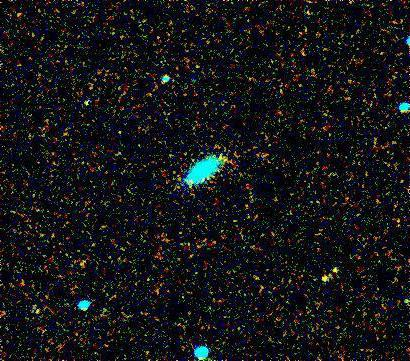star: (311, 265, 341, 295)
